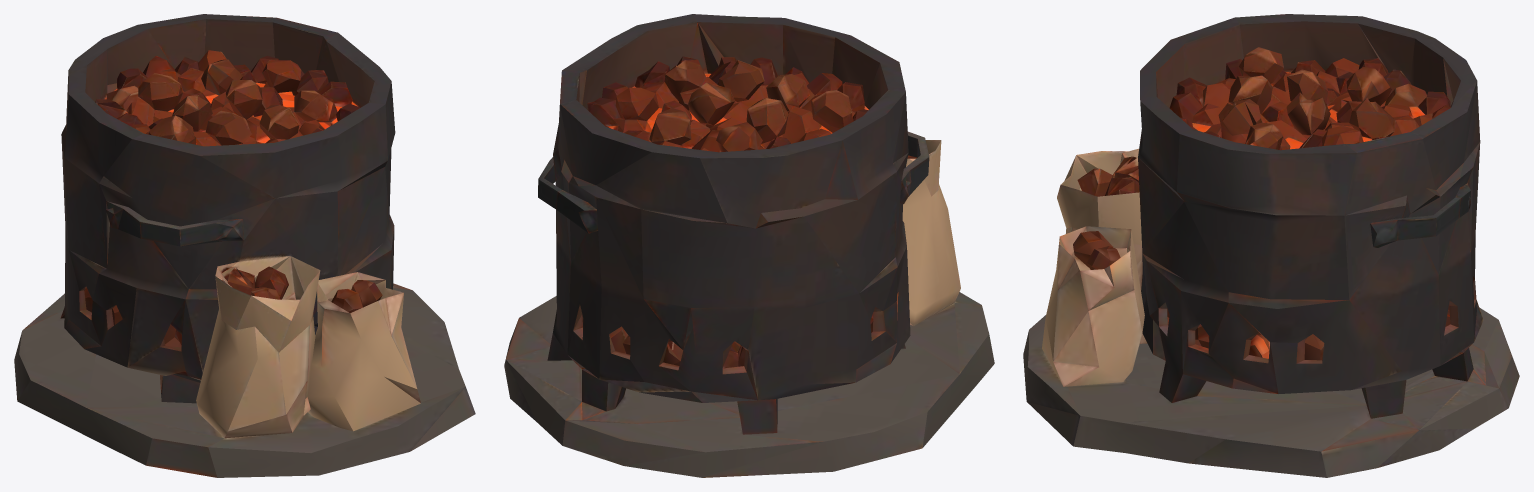
The model's file is chestnutRoaster.glb.
3 views of the same model, side by side, from view 1: azimuth 30°, elevation 25°; view 2: azimuth 150°, elevation 25°; view 3: azimuth 270°, elevation 25° (orthographic). The views are drawn at different scales.
Size of the model in its own units: 1.8 by 1.24 by 1.89.
1 material, 1 textured.
